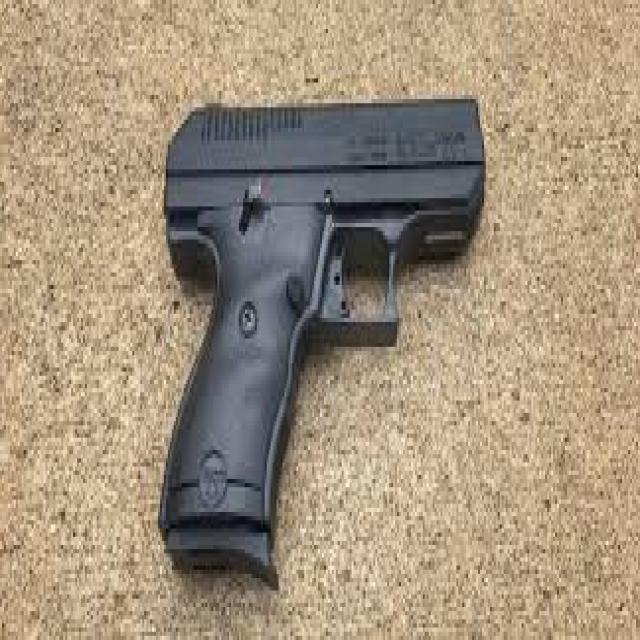weapons: (126, 60, 500, 600)
